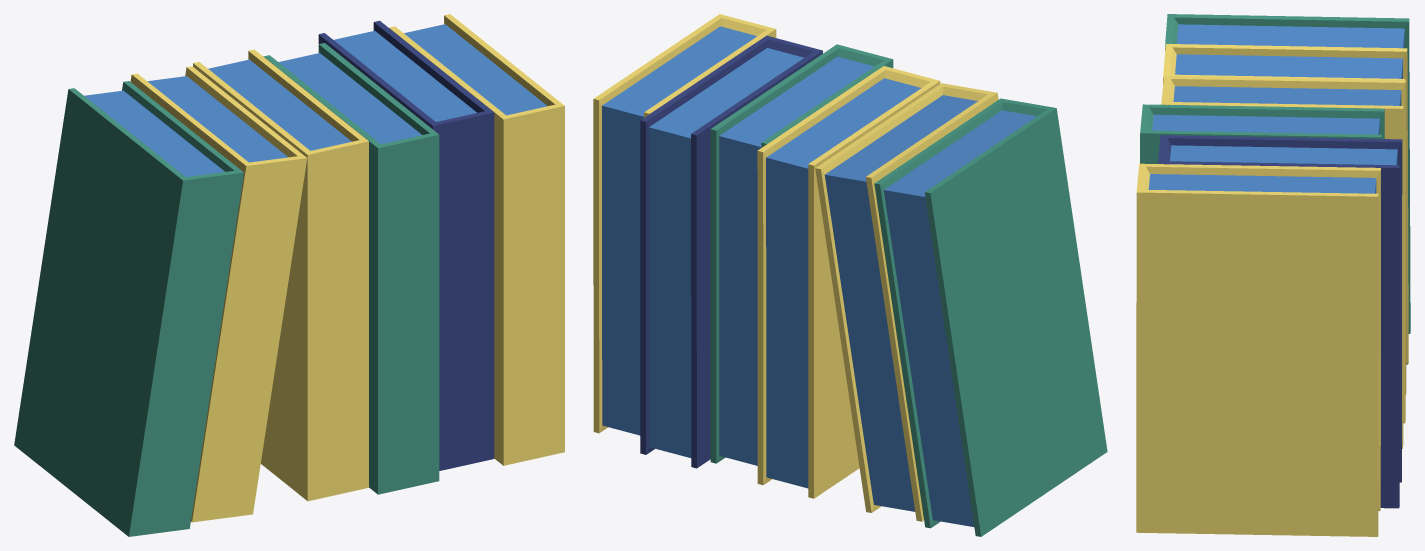
Rendered from Bedroom3_Books10.fbx.
3 renders of one model, left to right at view 1: azimuth 30°, elevation 25°; view 2: azimuth 150°, elevation 25°; view 3: azimuth 270°, elevation 25°, orthographic. The views are drawn at different scales.
Parts seen in each view (by area): view 1: Bedroom3_Books10; view 2: Bedroom3_Books10; view 3: Bedroom3_Books10.
Boxes of the visible parts, x1,y1,x2,y2 form: Bedroom3_Books10: (14, 14, 564, 536); Bedroom3_Books10: (593, 14, 1107, 536); Bedroom3_Books10: (1136, 14, 1410, 536).
Size of the model in its own units: 61.21 by 47.82 by 34.57.
